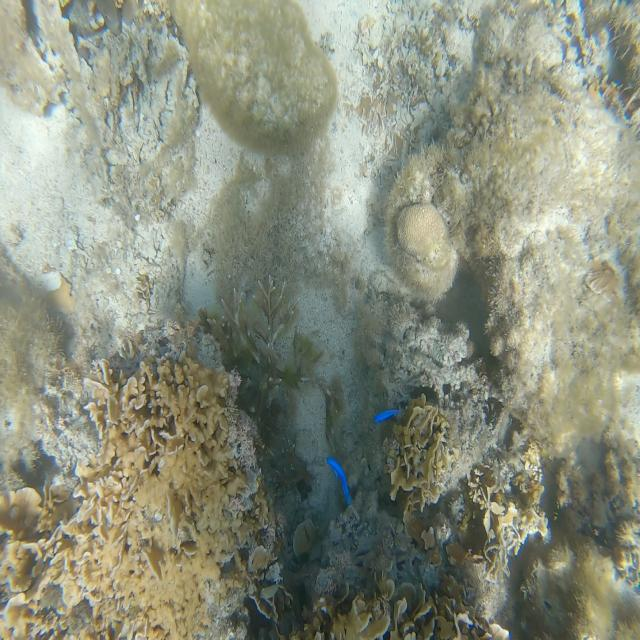rurisuzumedai: (327, 457, 351, 504), (374, 409, 398, 422)
